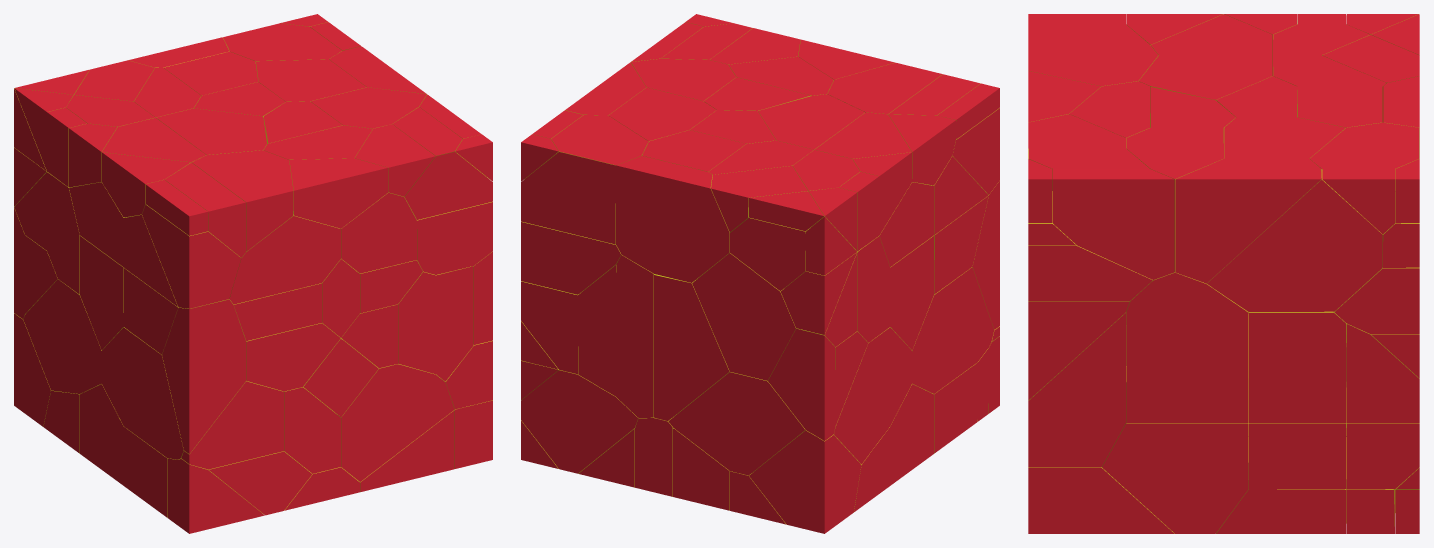
Rendered from explodeCube.glb.
The picture shows the model from 3 angles, left to right: view 1: azimuth 30°, elevation 25°; view 2: azimuth 150°, elevation 25°; view 3: azimuth 270°, elevation 25°; orthographic projection. The views are drawn at different scales.
Visible parts, largest first — view 1: Cube_cell.053, Cube_cell.002, Cube_cell.029, Cube_cell.098, Cube_cell.019, Cube_cell.076, Cube_cell.017, Cube_cell.057, Cube_cell.028, Cube_cell.077, Cube_cell.015, Cube_cell.078 (+57 smaller); view 2: Cube_cell.038, Cube_cell.013, Cube_cell.001, Cube_cell.024, Cube_cell.051, Cube_cell.042, Cube_cell.054, Cube_cell.029, Cube_cell.019, Cube_cell.010, Cube_cell.046, Cube_cell.066 (+53 smaller); view 3: Cube_cell.096, Cube_cell.081, Cube_cell.082, Cube_cell.026, Cube_cell.016, Cube_cell.073, Cube_cell.052, Cube_cell.056, Cube_cell.014, Cube_cell.008, Cube_cell.078, Cube_cell.091 (+35 smaller).
Part boxes in pixels (x1=…): Cube_cell.053: x1=162, y1=299, x2=245, y2=454; Cube_cell.002: x1=337, y1=364, x2=454, y2=481; Cube_cell.029: x1=101, y1=327, x2=183, y2=459; Cube_cell.098: x1=229, y1=214, x2=340, y2=304; Cube_cell.019: x1=23, y1=279, x2=101, y2=393; Cube_cell.076: x1=142, y1=204, x2=241, y2=308; Cube_cell.017: x1=181, y1=381, x2=283, y2=469; Cube_cell.057: x1=289, y1=158, x2=388, y2=228; Cube_cell.028: x1=192, y1=150, x2=293, y2=251; Cube_cell.077: x1=341, y1=192, x2=416, y2=273; Cube_cell.015: x1=246, y1=323, x2=340, y2=391; Cube_cell.078: x1=417, y1=201, x2=492, y2=274; Cube_cell.038: x1=616, y1=156, x2=729, y2=282; Cube_cell.013: x1=668, y1=372, x2=805, y2=475; Cube_cell.001: x1=692, y1=253, x2=796, y2=380; Cube_cell.024: x1=749, y1=430, x2=861, y2=533; Cube_cell.051: x1=521, y1=370, x2=638, y2=473; Cube_cell.042: x1=654, y1=274, x2=729, y2=420; Cube_cell.054: x1=521, y1=152, x2=615, y2=244; Cube_cell.029: x1=912, y1=267, x2=994, y2=393; Cube_cell.019: x1=833, y1=327, x2=912, y2=464; Cube_cell.010: x1=616, y1=255, x2=654, y2=417; Cube_cell.046: x1=768, y1=328, x2=835, y2=440; Cube_cell.066: x1=521, y1=221, x2=621, y2=294; Cube_cell.096: x1=1126, y1=272, x2=1248, y2=422; Cube_cell.081: x1=1206, y1=169, x2=1382, y2=311; Cube_cell.082: x1=1102, y1=382, x2=1248, y2=533; Cube_cell.026: x1=1175, y1=158, x2=1321, y2=283; Cube_cell.016: x1=1053, y1=169, x2=1174, y2=279; Cube_cell.073: x1=1248, y1=311, x2=1345, y2=422; Cube_cell.052: x1=1028, y1=312, x2=1125, y2=467; Cube_cell.056: x1=1028, y1=467, x2=1174, y2=533; Cube_cell.014: x1=1248, y1=423, x2=1345, y2=489; Cube_cell.008: x1=1346, y1=324, x2=1419, y2=422; Cube_cell.078: x1=1028, y1=245, x2=1152, y2=301; Cube_cell.091: x1=1028, y1=301, x2=1129, y2=400.
Size of the model in its own units: 2 by 2 by 2.
